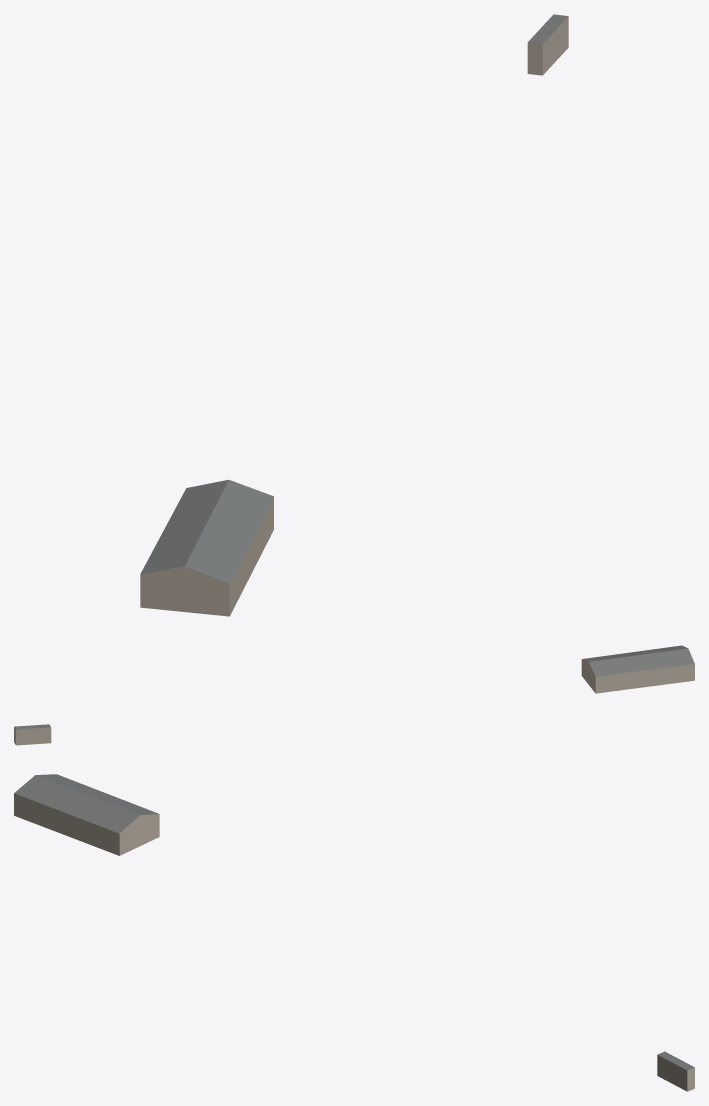
File: 0d2ff36f78c8-chunk-1196_11845.glb
3 views of the same model, one above another, from view 1: azimuth 30°, elevation 25°; view 2: azimuth 150°, elevation 25°; view 3: azimuth 270°, elevation 25° (orthographic). The views are drawn at different scales.
Visible parts, largest first — view 1: building_58128, building_84821; view 2: building_58128, building_84821; view 3: building_58128, building_84821.
Part boxes in pixels (bbox=[...]): building_58128: bbox=[140, 479, 273, 616]; building_84821: bbox=[527, 14, 568, 75]; building_58128: bbox=[581, 645, 694, 693]; building_84821: bbox=[14, 724, 51, 745]; building_58128: bbox=[14, 774, 159, 855]; building_84821: bbox=[657, 1051, 694, 1091].
Bounding box in the file's own units: 125 × 6.14 × 122.
